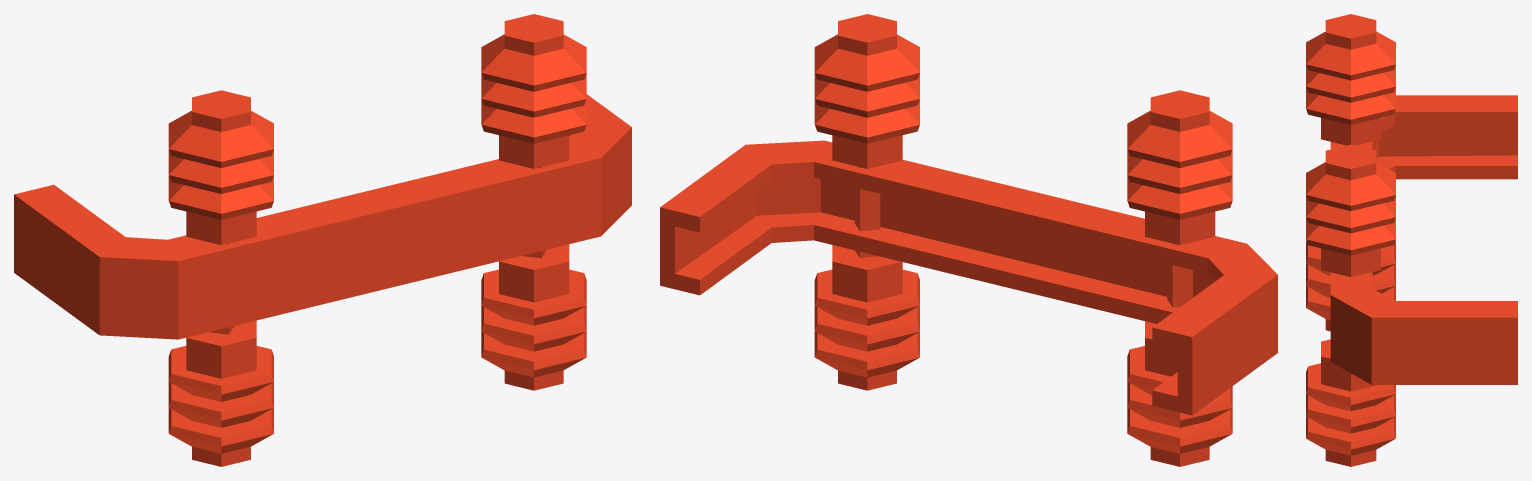
File: SM_Pole_Electric_Wall_B_City.fbx
3 views of the same model, side by side, from view 1: azimuth 30°, elevation 25°; view 2: azimuth 150°, elevation 25°; view 3: azimuth 270°, elevation 25° (orthographic). The views are drawn at different scales.
Visible parts, largest first — view 1: SM_Pole_Electric_Wall_B_City; view 2: SM_Pole_Electric_Wall_B_City; view 3: SM_Pole_Electric_Wall_B_City.
Part boxes in pixels (left/top/right/bottom): SM_Pole_Electric_Wall_B_City: left=14, top=14, right=631, bottom=466; SM_Pole_Electric_Wall_B_City: left=660, top=14, right=1277, bottom=466; SM_Pole_Electric_Wall_B_City: left=1306, top=14, right=1517, bottom=466.
Size of the model in its own units: 0.7185 by 0.4488 by 0.2894.
